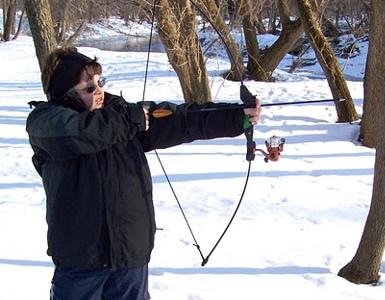person: (27, 49, 262, 300)
